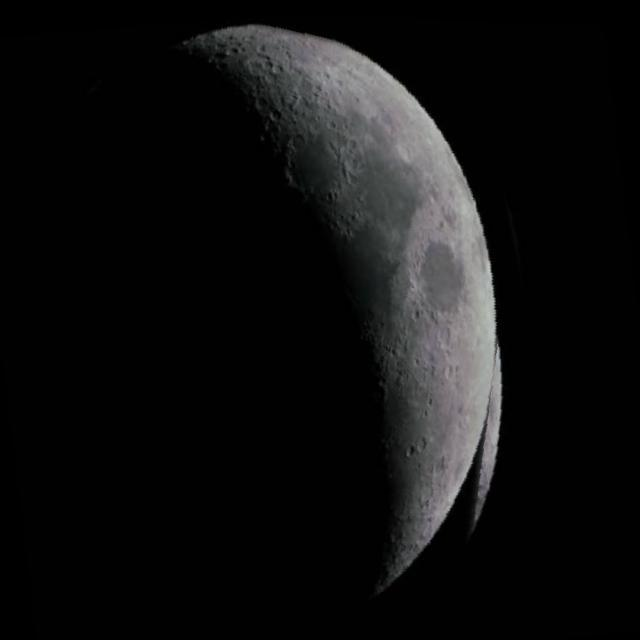moon: (15, 1, 600, 640)
